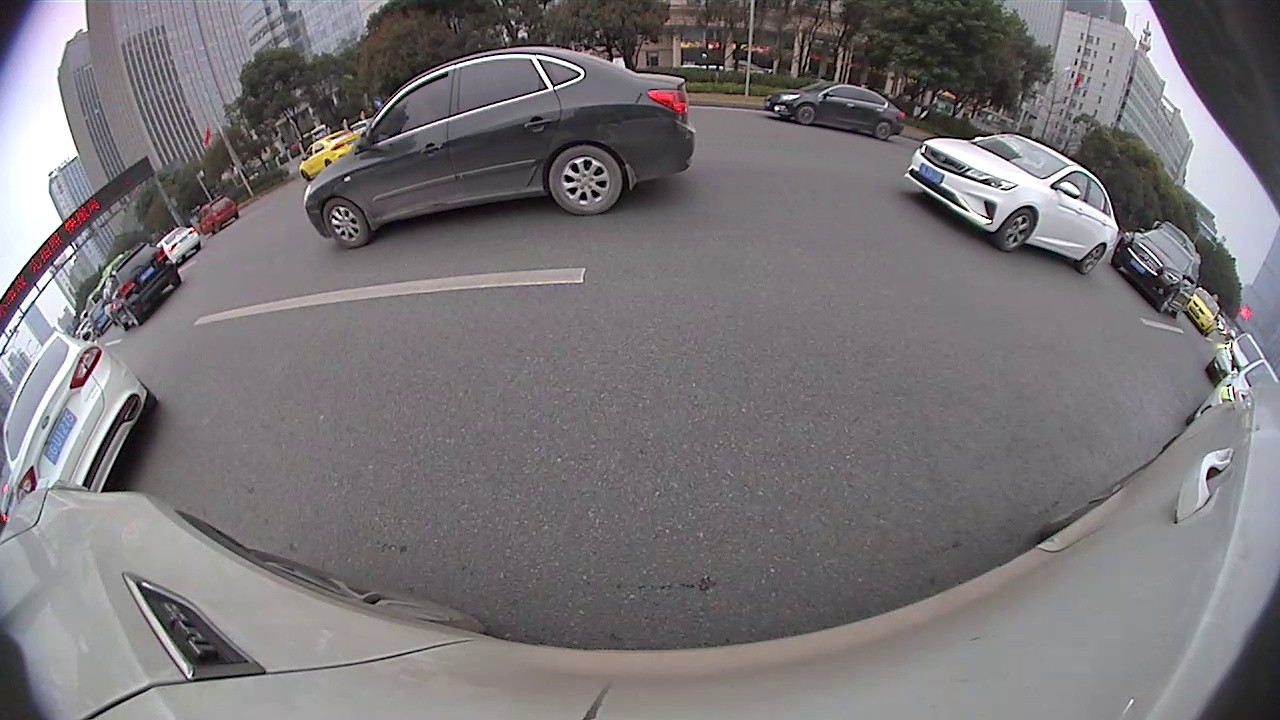car: (301, 41, 697, 253), (901, 131, 1116, 278), (4, 326, 161, 501), (761, 82, 910, 141), (1114, 220, 1200, 315), (97, 240, 183, 330)
front: (320, 195, 370, 251), (998, 208, 1037, 254), (1157, 287, 1178, 314), (795, 104, 815, 125)
rear: (545, 145, 627, 216), (1079, 245, 1106, 277), (873, 122, 892, 140)
